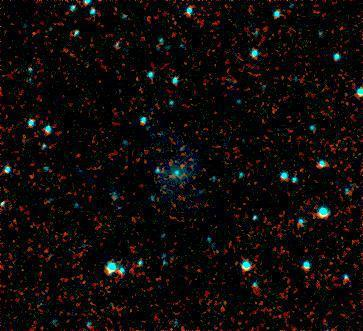star: (169, 150, 199, 180)
